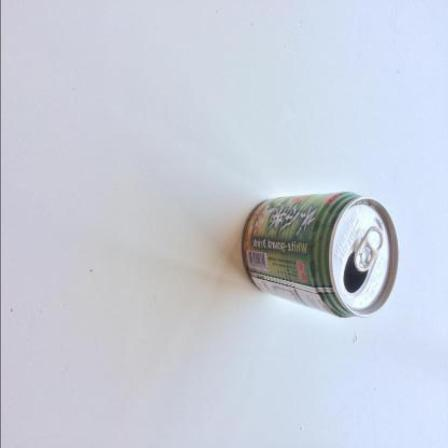Can: (242, 192, 400, 319)
Pop tab: (355, 227, 385, 272)
